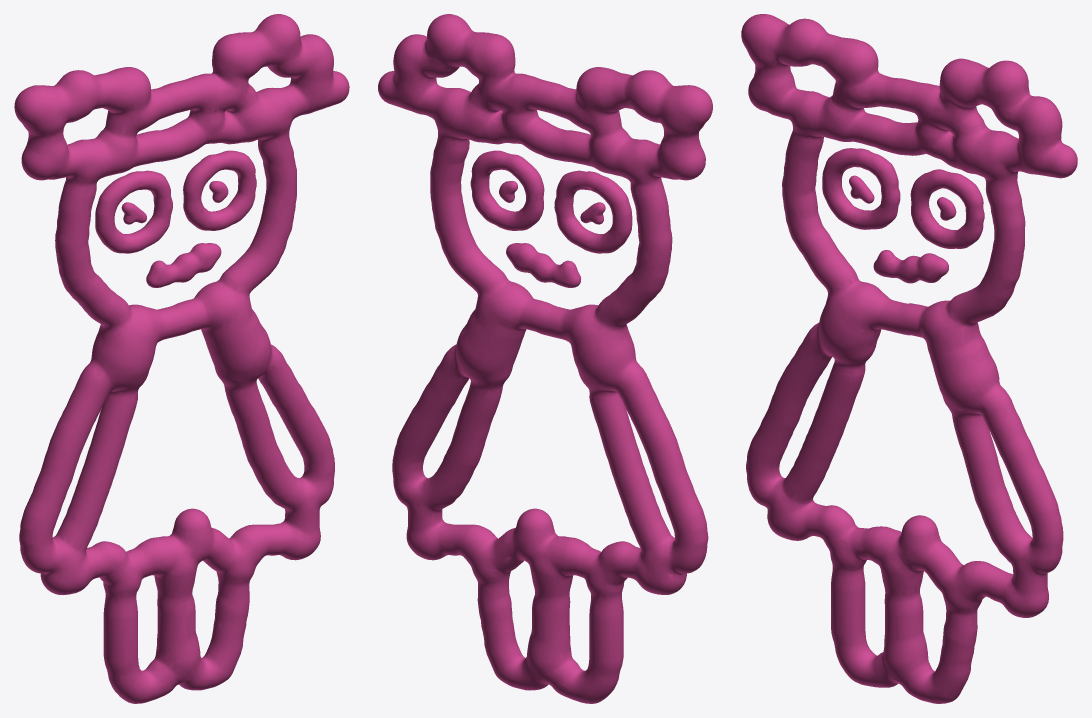
The model's file is poupee.glb.
The picture shows the model from 3 angles, left to right: view 1: azimuth 30°, elevation 25°; view 2: azimuth 150°, elevation 25°; view 3: azimuth 330°, elevation 25°; orthographic projection.
Visible parts, largest first — view 1: PoupeeParfaite; view 2: PoupeeParfaite; view 3: PoupeeParfaite.
Boxes of the visible parts, <box> form: PoupeeParfaite: <box>14,14,349,703</box>; PoupeeParfaite: <box>378,14,712,703</box>; PoupeeParfaite: <box>741,14,1077,703</box>.
Size of the model in its own units: 0.9977 by 1.89 by 0.1586.
